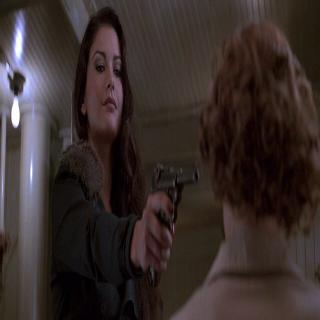gun: (141, 147, 203, 299)
